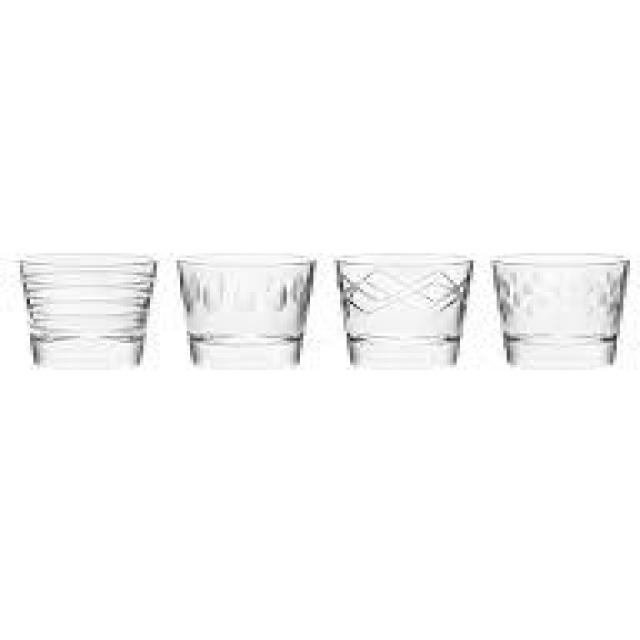non-organic waste: (173, 255, 320, 368), (17, 256, 160, 365)
